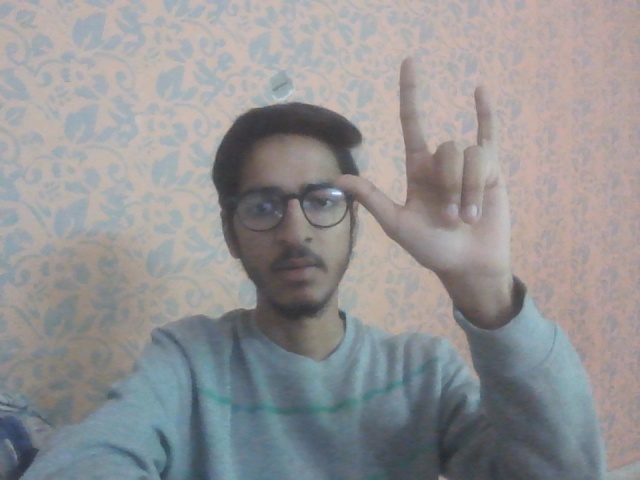ILoveYou: (331, 52, 521, 284)
